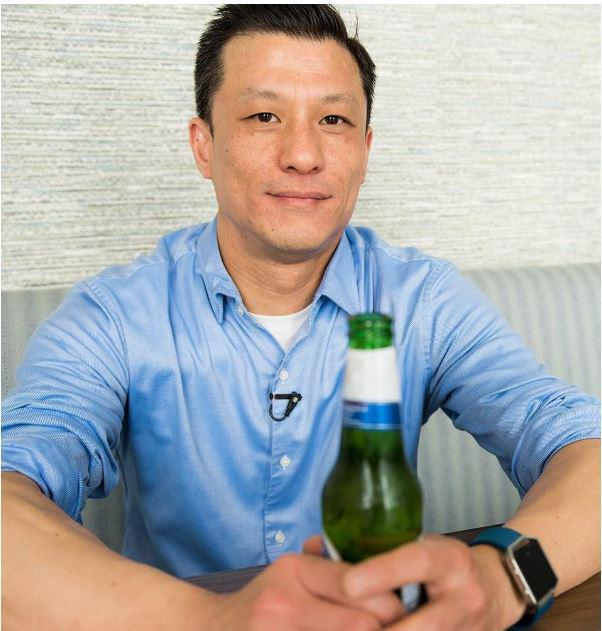Sober: (225, 35, 363, 250)
